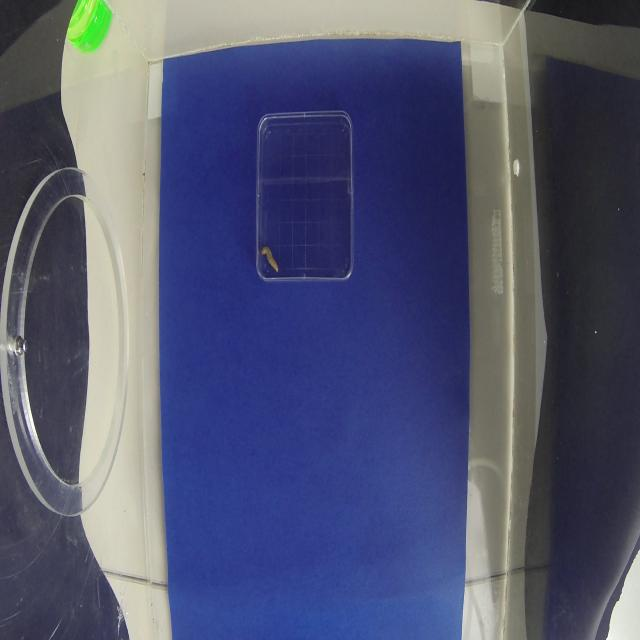larva: (261, 241, 282, 277)
